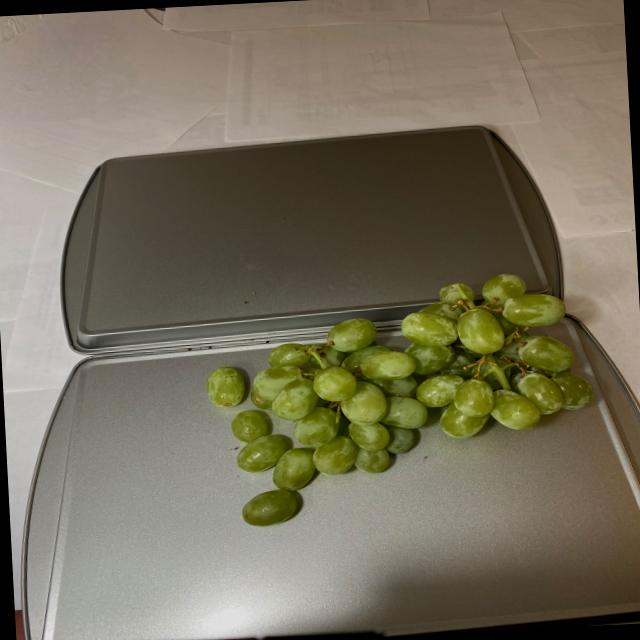grapes: (200, 268, 602, 526)
